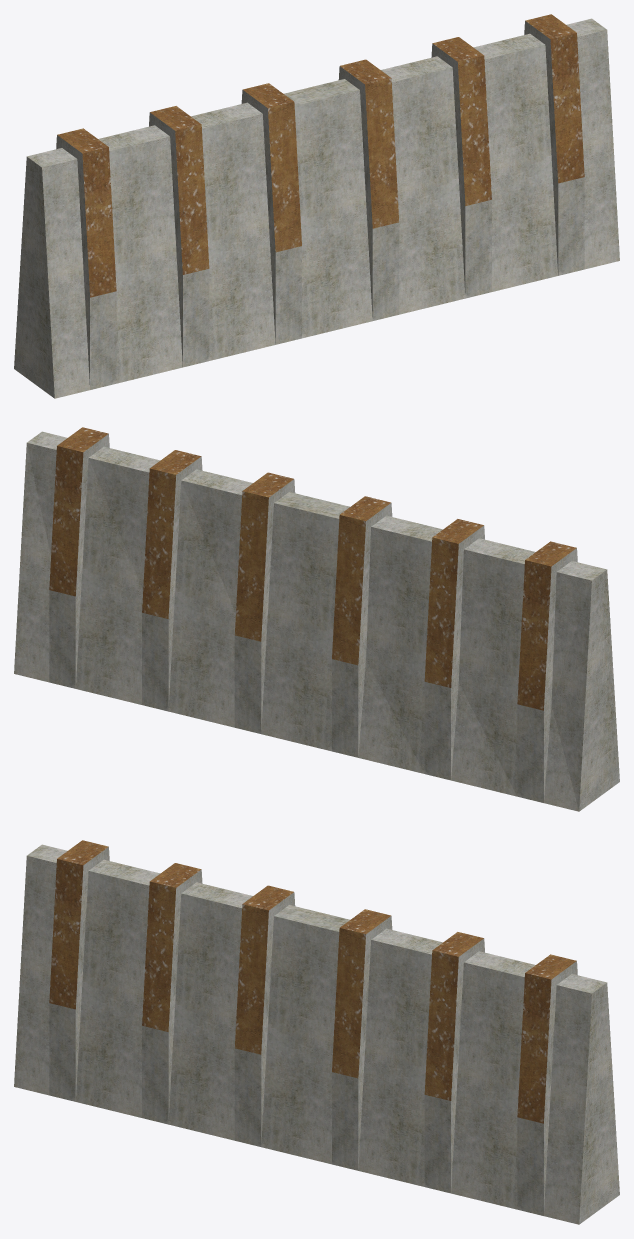
The model's file is mun_all_military_wall_med_rebl_16_s01_l1.fbx.
3 views of the same model, one above another, from view 1: azimuth 30°, elevation 25°; view 2: azimuth 150°, elevation 25°; view 3: azimuth 330°, elevation 25° (orthographic).
Visible parts, largest first — view 1: mesh_node; view 2: mesh_node; view 3: mesh_node.
Boxes of the visible parts, bbox=[...] form: mesh_node: bbox=[14, 14, 619, 398]; mesh_node: bbox=[14, 427, 619, 811]; mesh_node: bbox=[14, 840, 619, 1224].
Bounding box in the file's own units: 16 × 6.25 × 2.
